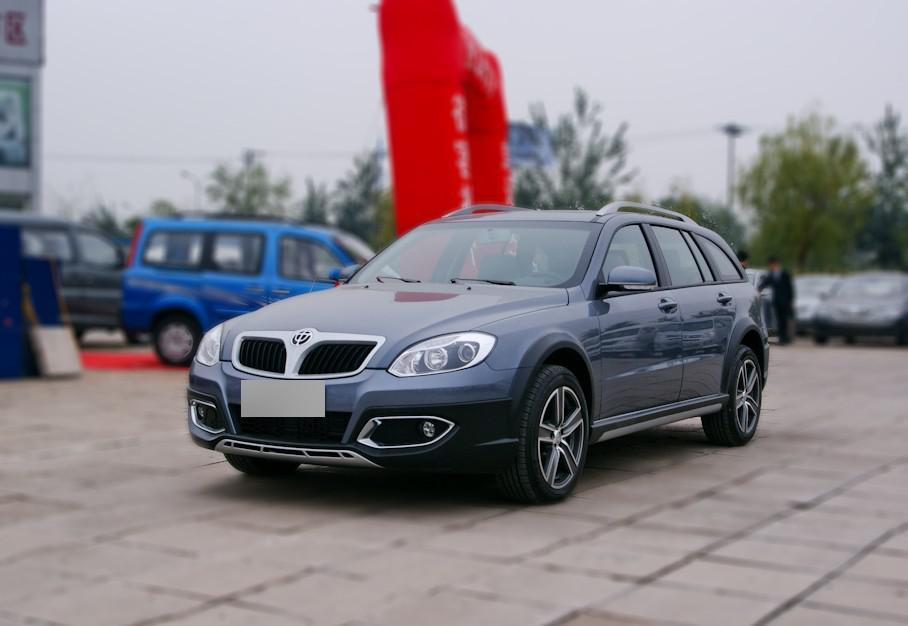Wagon: (186, 199, 770, 505)
